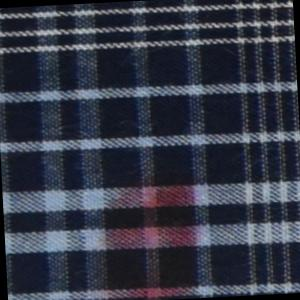Stain: (94, 165, 205, 300)
